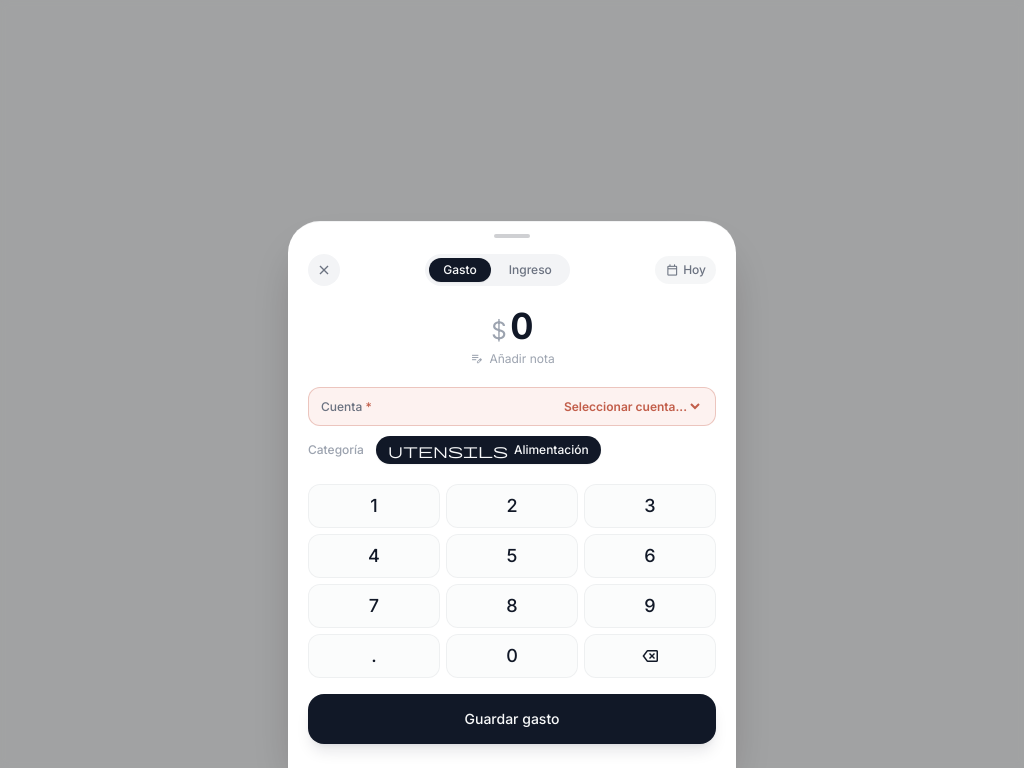
Test case: TransactionModal › cambia a ingreso y muestra las categorías de ingreso
The image size is (1024, 768).
Click the button "Ingreso" at (530, 270), box [495,258,566,282]
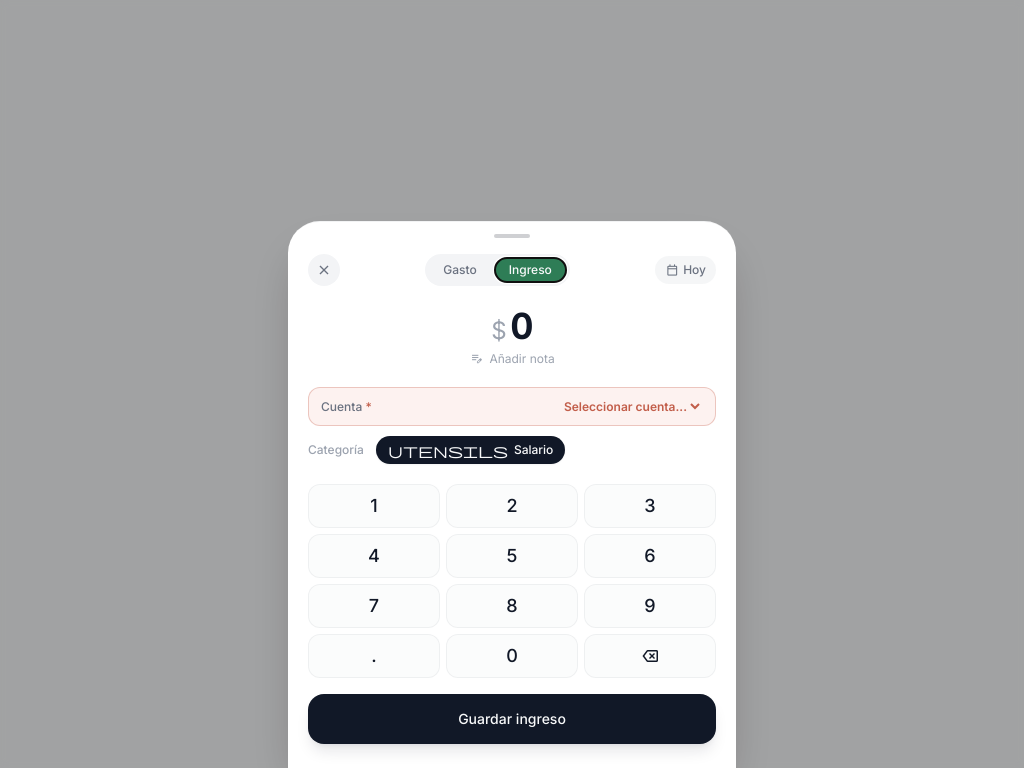
Now the button "Salario" is shown, box [376,436,565,464]
Now the button "Alimentación" is gone
Now the button "Guardar ingreso" is shown, box [308,694,716,744]
